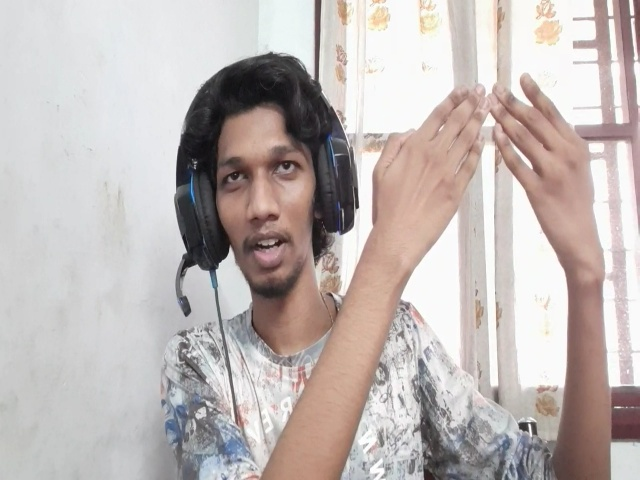ThankYou: (370, 73, 600, 240)
